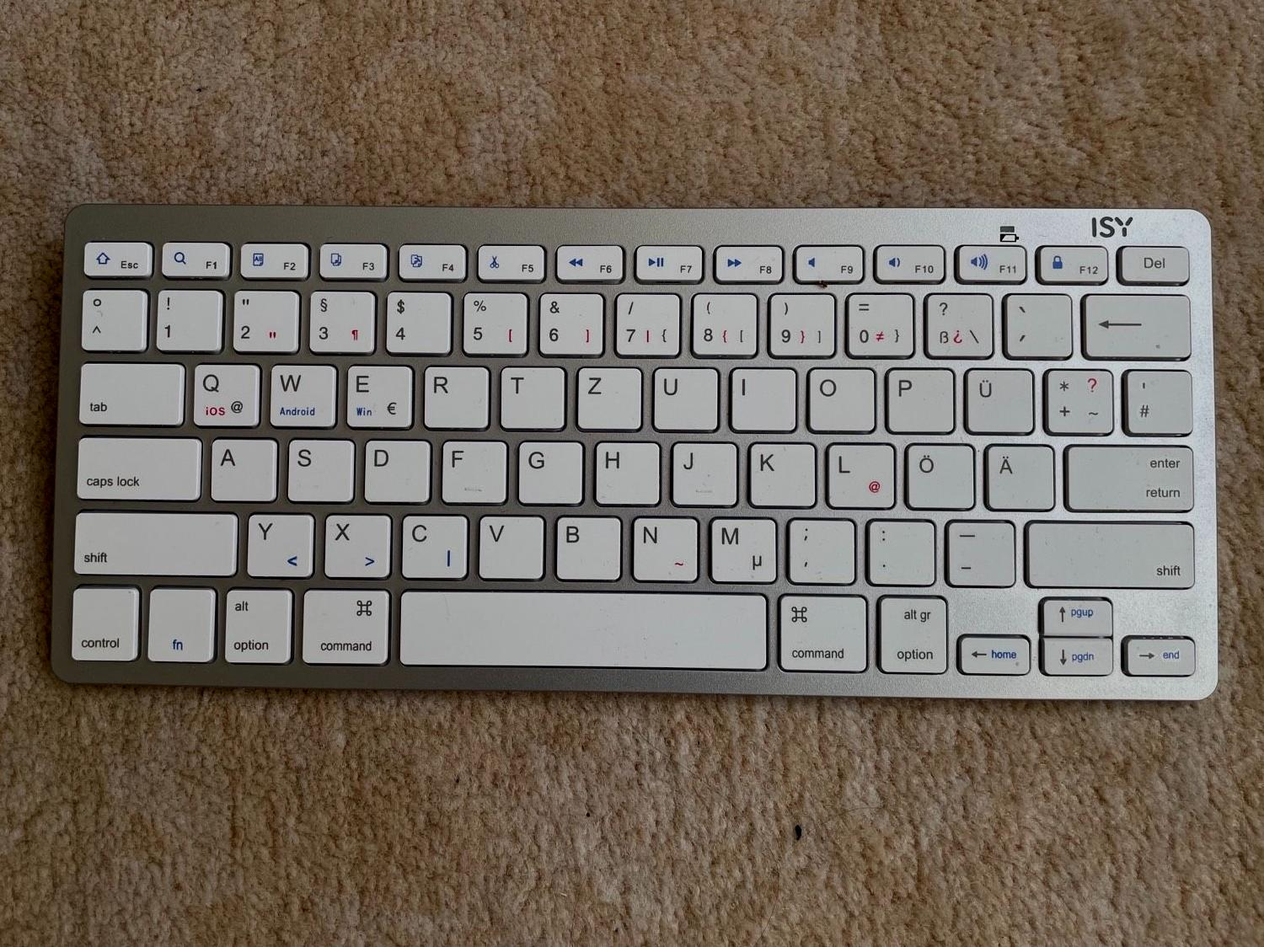0: (840, 287, 913, 356)
1: (153, 285, 222, 350)
2: (228, 285, 298, 351)
3: (304, 286, 375, 352)
4: (383, 286, 450, 352)
5: (457, 286, 527, 353)
6: (533, 287, 603, 355)
7: (611, 288, 681, 356)
8: (687, 288, 758, 356)
9: (763, 287, 834, 356)
a: (206, 433, 276, 500)
accent: (999, 287, 1070, 355)
ae: (981, 439, 1054, 508)
alt-left: (220, 582, 292, 664)
altgr-right: (874, 590, 949, 673)
b: (550, 511, 621, 579)
c: (396, 510, 468, 578)
caret: (77, 284, 144, 349)
comma: (782, 513, 854, 582)
d: (360, 434, 430, 502)
del: (1079, 288, 1191, 357)
e: (340, 360, 412, 428)
enter: (1064, 438, 1197, 510)
f: (437, 436, 506, 503)
g: (513, 436, 581, 503)
h: (590, 437, 660, 504)
hash: (1122, 364, 1193, 433)
i: (726, 362, 795, 430)
j: (667, 437, 736, 505)
k: (744, 437, 815, 506)
keyboard: (39, 192, 1222, 710)
l: (823, 439, 895, 508)
m: (704, 513, 776, 582)
minus: (940, 516, 1015, 586)
n: (627, 512, 698, 581)
o: (802, 362, 873, 431)
oe: (901, 438, 973, 508)
p: (881, 363, 953, 431)
plus: (1041, 364, 1114, 432)
point: (862, 514, 935, 584)
q: (188, 359, 260, 426)
r: (420, 361, 488, 428)
s: (282, 434, 353, 501)
shift-left: (70, 506, 238, 575)
shift-lock: (72, 432, 201, 499)
shift-right: (1023, 515, 1196, 587)
space: (397, 585, 769, 667)
ss: (919, 287, 992, 356)
strg-left: (65, 581, 140, 661)
t: (496, 361, 564, 428)
tab: (75, 356, 184, 424)
u: (648, 362, 717, 431)
ue: (959, 362, 1033, 432)
v: (474, 511, 544, 578)
w: (265, 357, 335, 426)
x: (320, 510, 390, 577)
y: (243, 509, 314, 576)
z: (572, 361, 640, 429)
